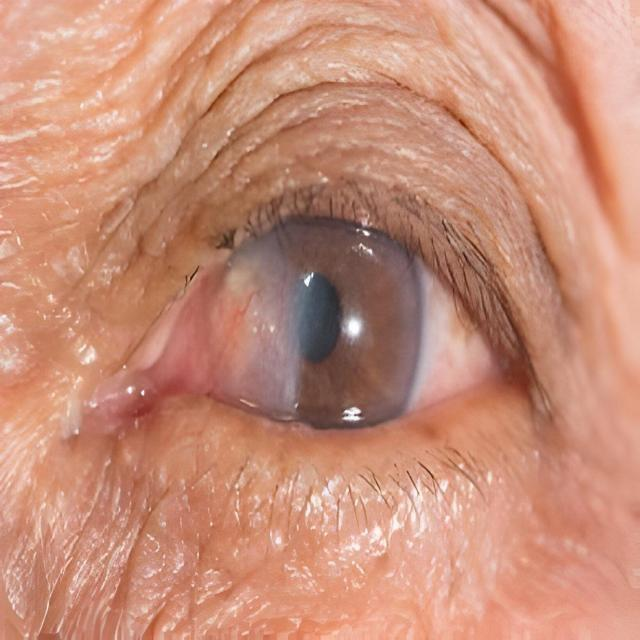Pterygium: (132, 237, 310, 425)
